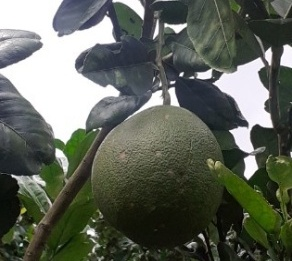Buoi: (89, 101, 226, 250)
